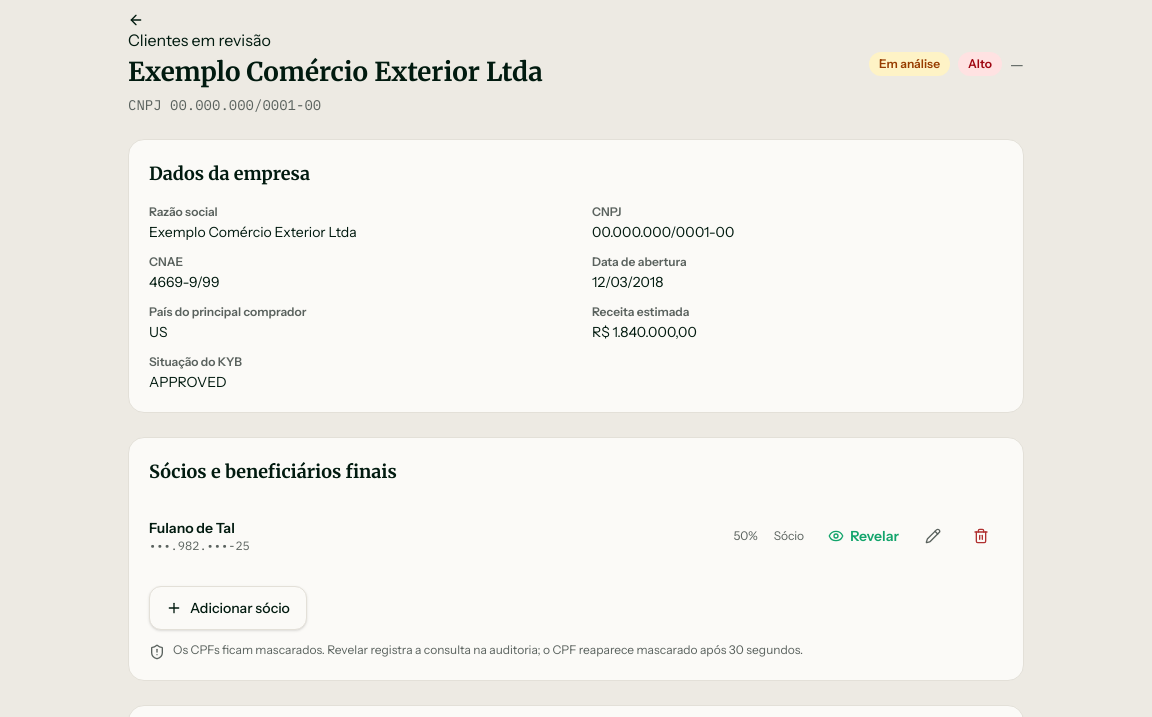
Scenario: ClientReview — CPF reveal (audited) › does not write a revealed CPF to web storage
Expected: the text "•••.982.•••-25" is shown, [149,538,250,553]
What coordinates should you click on to do the following:
click the button "Revelar"
I would click on:
 (864, 536)
Its box is [820,514,907,558].
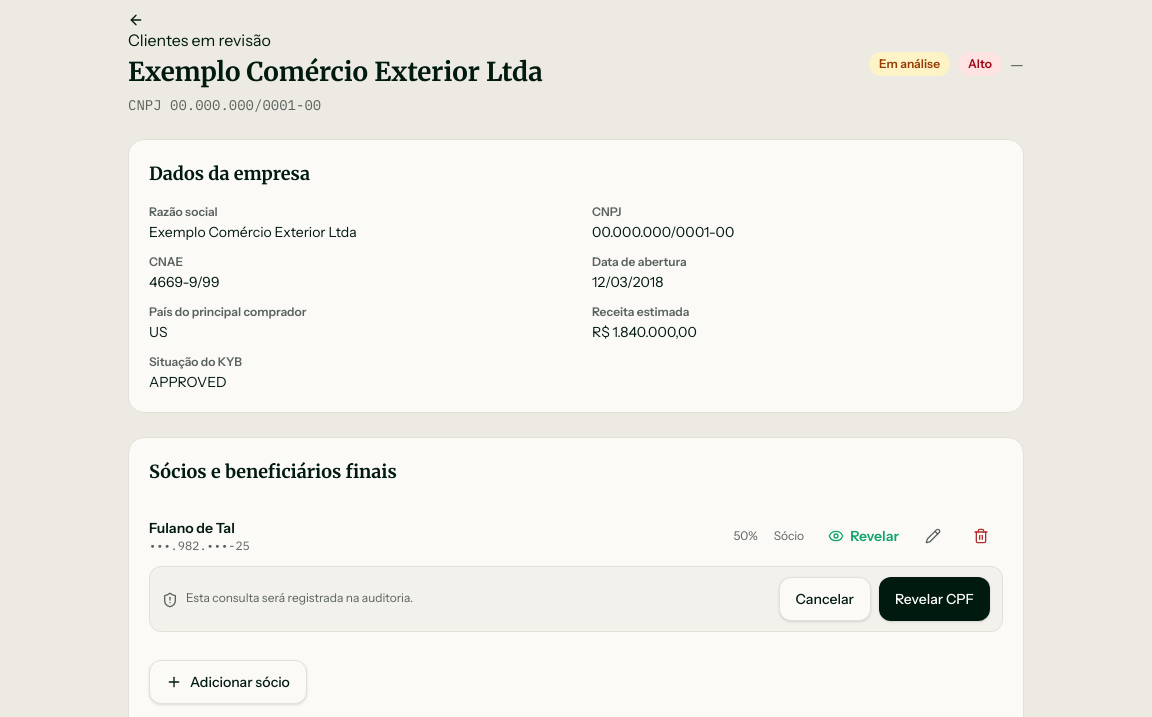
What coordinates should you click on to do the following:
click the button "Revelar CPF"
I would click on:
 (934, 599)
Its box is [879,577,990,621].
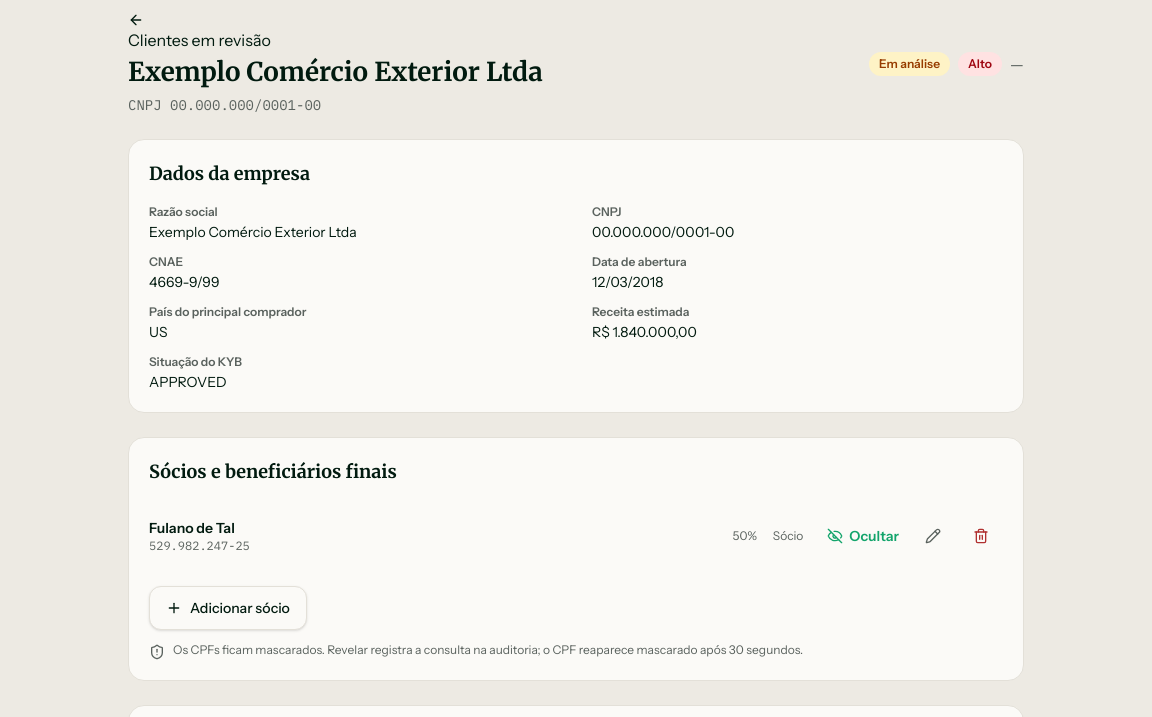
Result: the text "529.982.247-25" is shown at [149,538,250,553]
